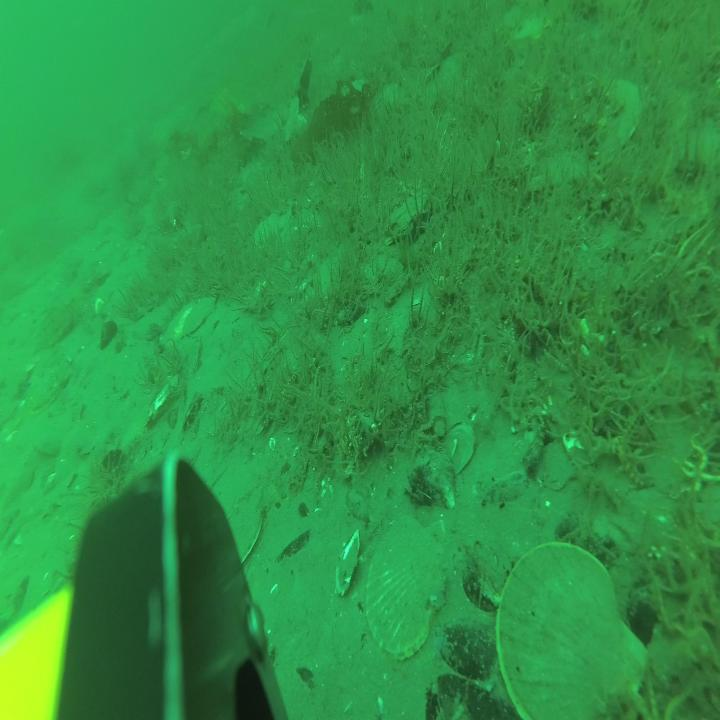scallop: (497, 539, 647, 720), (366, 516, 449, 662), (207, 452, 280, 572), (593, 81, 646, 153), (162, 292, 217, 346), (30, 356, 75, 415), (255, 215, 290, 253)
